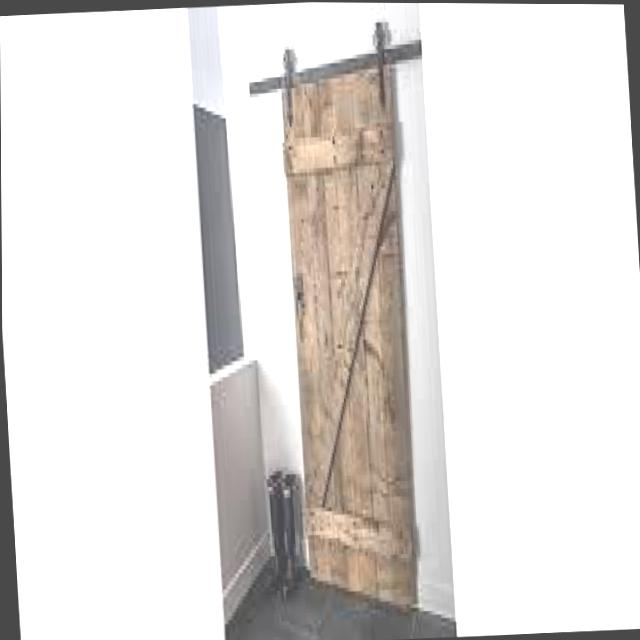close: (262, 15, 444, 639)
